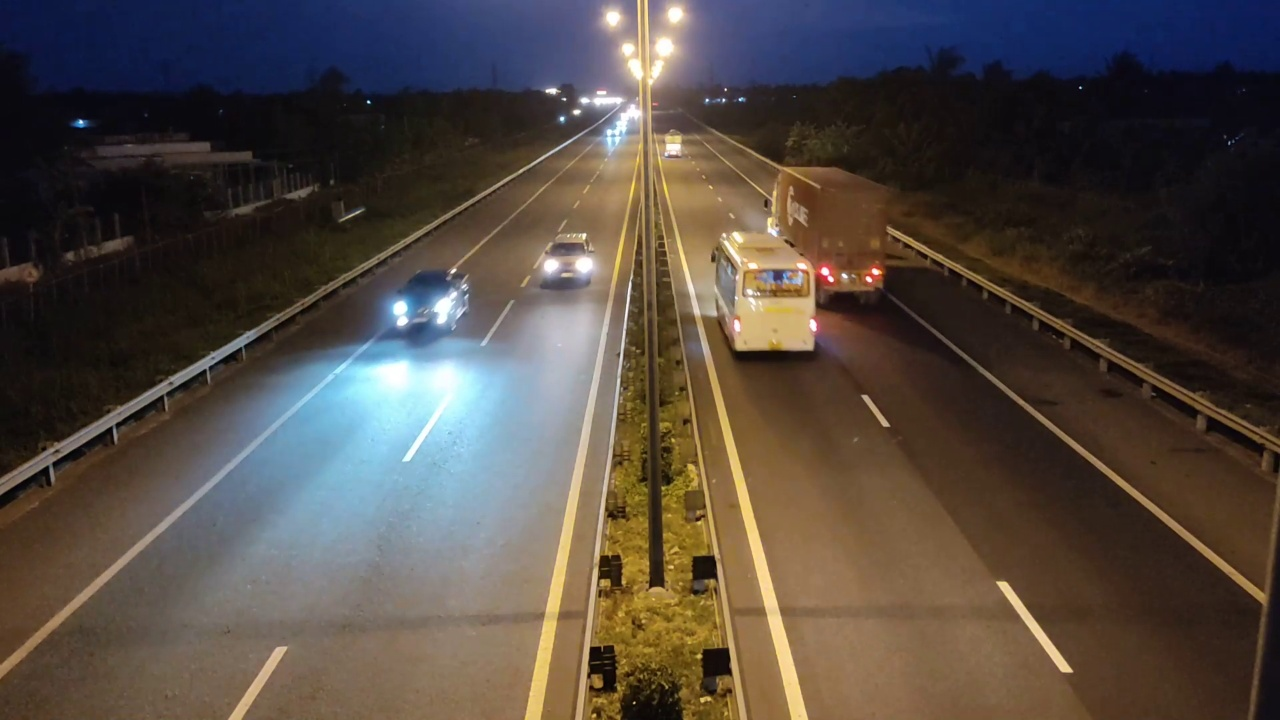bus: (708, 218, 818, 358)
car: (391, 268, 472, 336), (538, 233, 595, 290)
truck: (767, 163, 889, 309)
